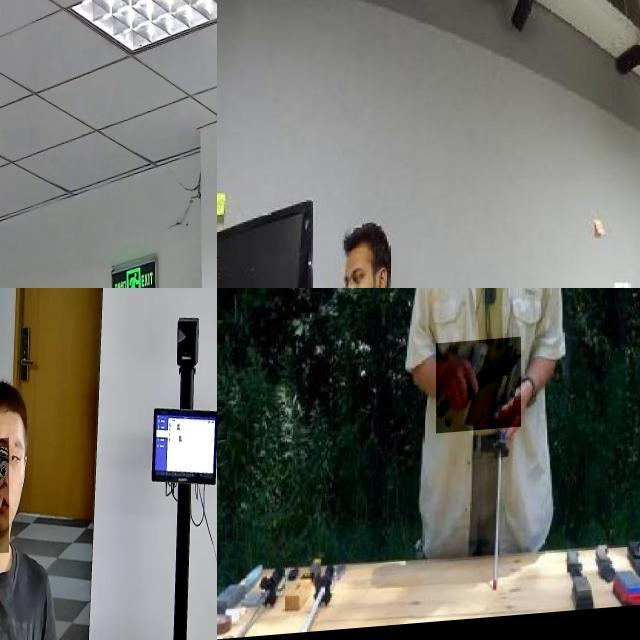-: (436, 342, 521, 438)
gun-knife-thesis - v11 Yolov5 augmented: (0, 444, 18, 561)
